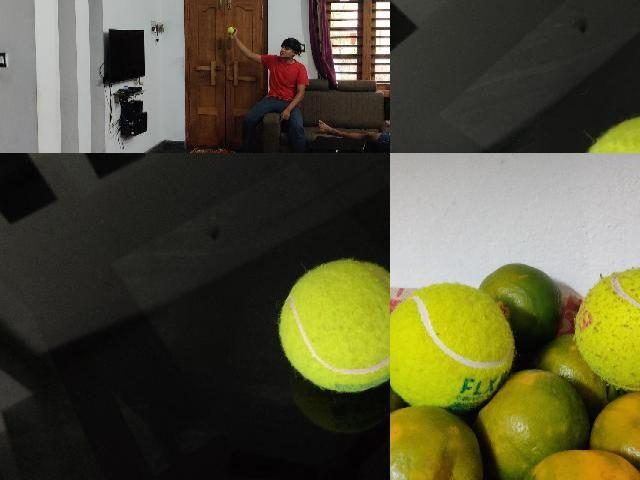tennis-ball: (390, 282, 516, 409), (278, 259, 389, 392), (573, 266, 639, 390), (227, 27, 233, 33)
